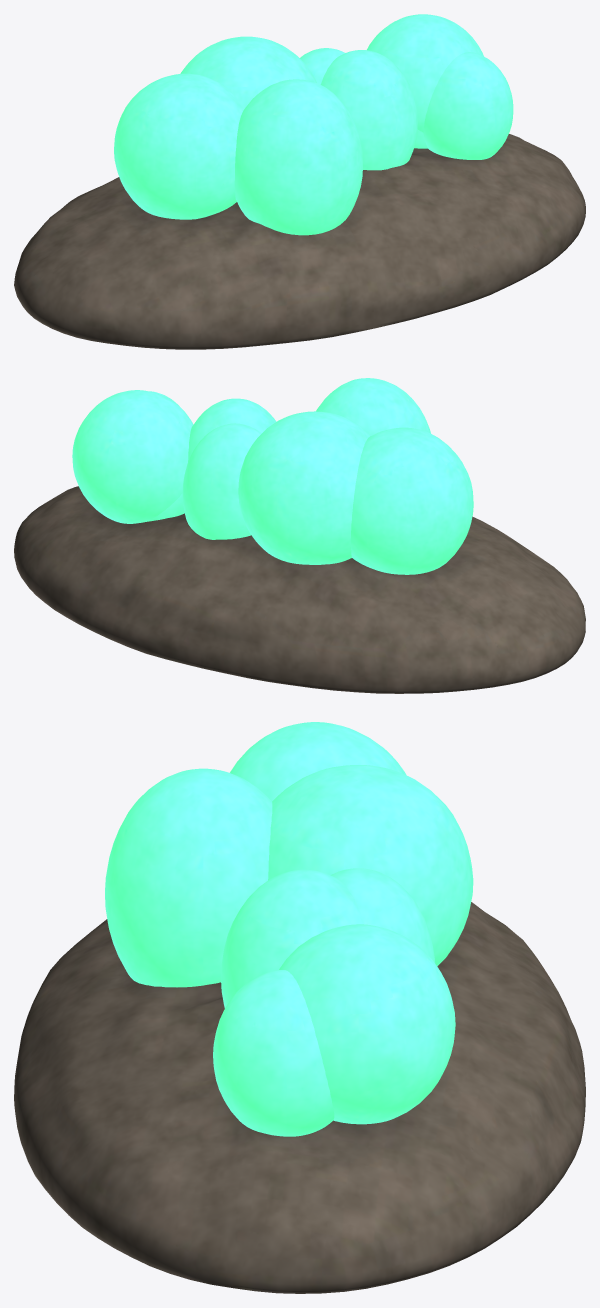
Rendered from booster_production.glb.
The picture shows the model from 3 angles, top to bottom: view 1: azimuth 30°, elevation 25°; view 2: azimuth 150°, elevation 25°; view 3: azimuth 270°, elevation 25°; orthographic projection. The views are drawn at different scales.
Visible parts, largest first — view 1: ColonyBody; view 2: ColonyBody; view 3: ColonyBody.
Boxes of the visible parts, x1,y1,x2,y2 form: ColonyBody: (14, 14, 585, 349); ColonyBody: (14, 378, 585, 693); ColonyBody: (14, 722, 585, 1293).
Size of the model in its own units: 2.89 by 1.06 by 1.79.
Materials: 3 (3 with a texture image).
